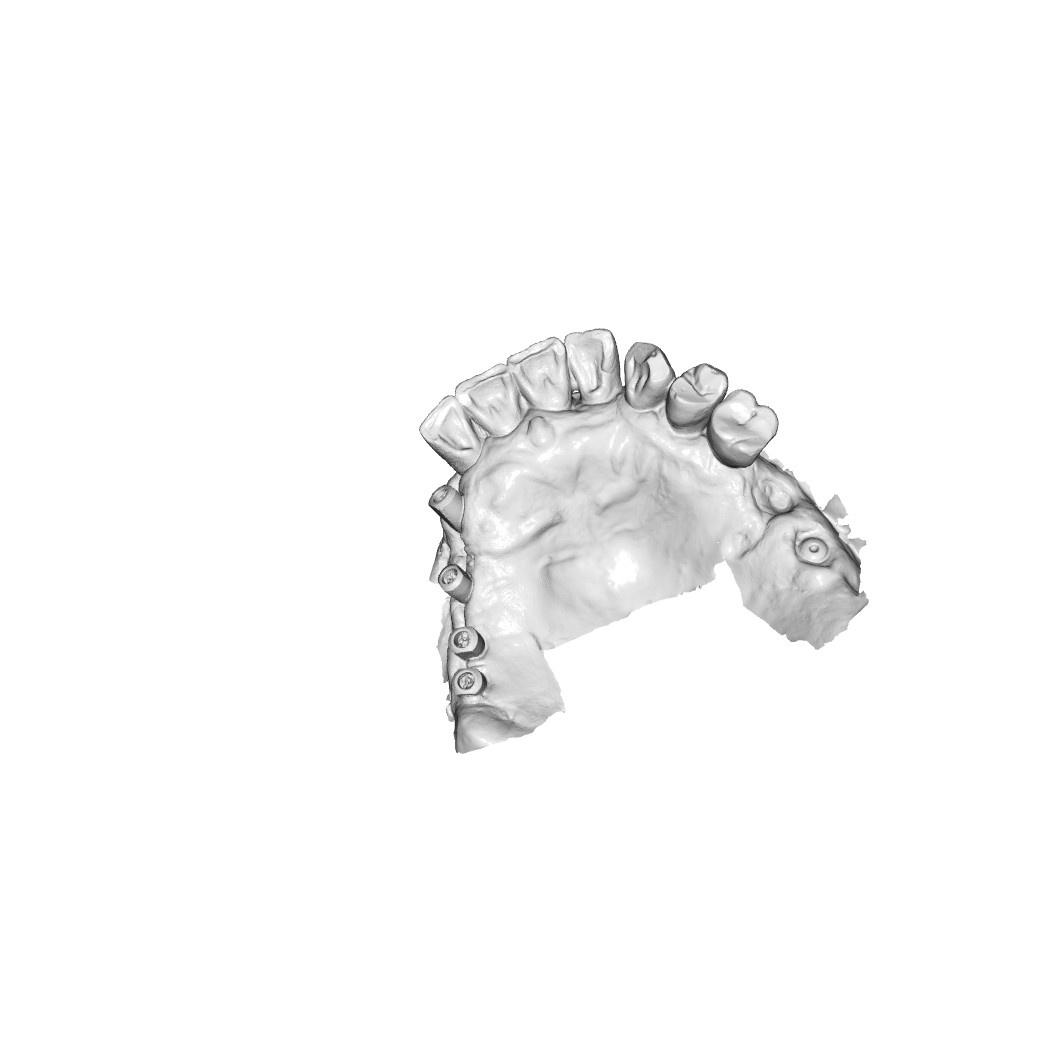canine: (621, 337, 672, 410)
implant: (428, 484, 466, 522), (440, 565, 472, 603), (449, 625, 485, 658), (452, 667, 488, 698), (798, 533, 832, 565)
incisor: (511, 339, 576, 411), (457, 368, 524, 433), (421, 397, 476, 465), (567, 329, 616, 401)
premolar: (704, 389, 781, 471), (665, 361, 728, 423)
